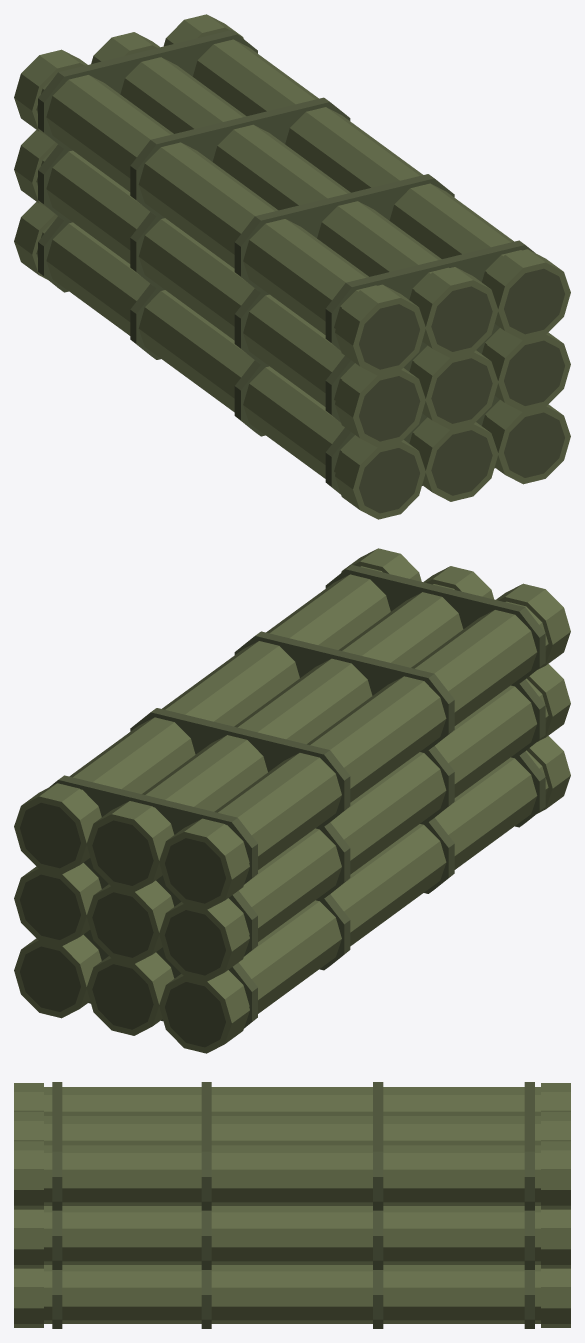
The model's file is SM_Prop_Missle_Crate_01.fbx.
The picture shows the model from 3 angles, top to bottom: view 1: azimuth 30°, elevation 25°; view 2: azimuth 150°, elevation 25°; view 3: azimuth 270°, elevation 25°; orthographic projection. The views are drawn at different scales.
Parts seen in each view (by area): view 1: SM_Prop_Missle_Crate_01; view 2: SM_Prop_Missle_Crate_01; view 3: SM_Prop_Missle_Crate_01.
Part boxes in pixels (x1,y1,x2,y2): SM_Prop_Missle_Crate_01: (14, 14, 570, 519); SM_Prop_Missle_Crate_01: (14, 548, 570, 1053); SM_Prop_Missle_Crate_01: (14, 1082, 570, 1328).
Bounding box in the file's own units: 73.19 × 69.43 × 197.
